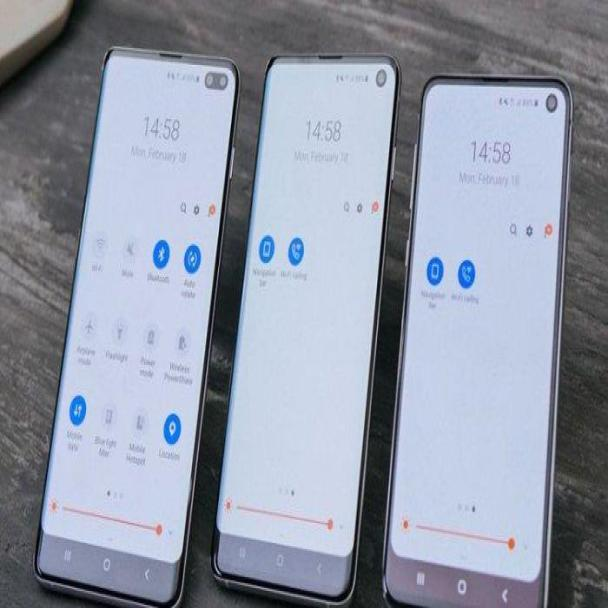Handphone: (25, 36, 248, 608), (207, 51, 404, 608), (377, 66, 580, 606)
